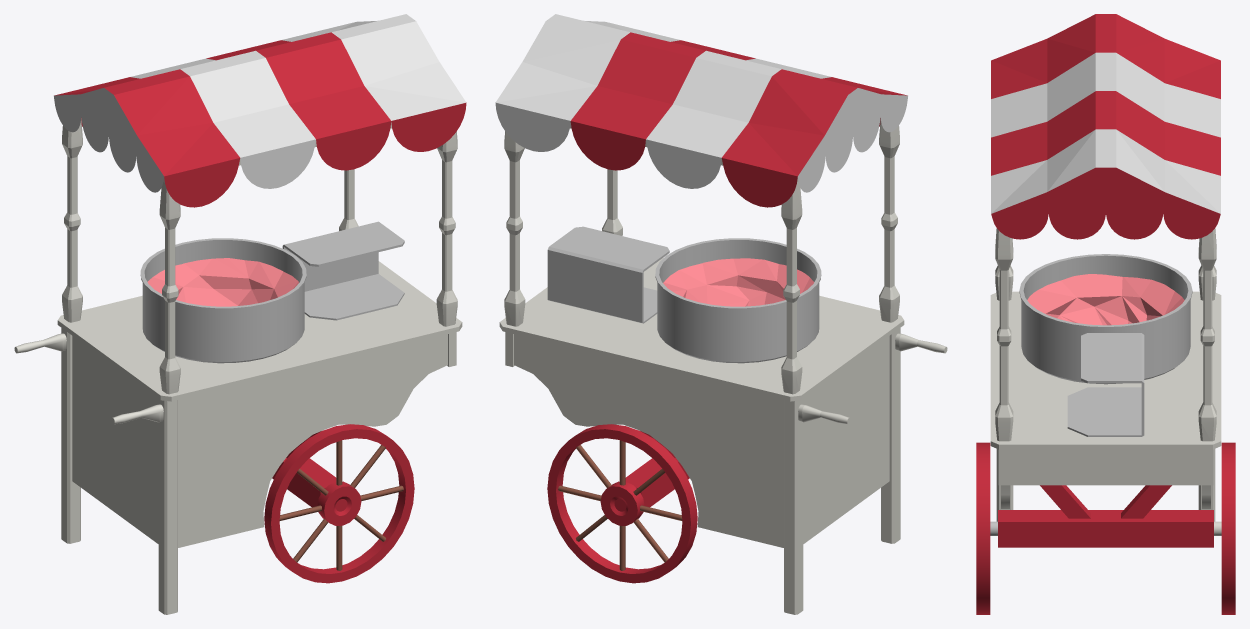
File: Cotton_Candy_Cart.fbx
3 views of the same model, side by side, from view 1: azimuth 30°, elevation 25°; view 2: azimuth 150°, elevation 25°; view 3: azimuth 270°, elevation 25° (orthographic). The views are drawn at different scales.
Parts seen in each view (by area): view 1: Cotton_Candy_Cart, Cotton_Candy_Stand, Cotton_Candy; view 2: Cotton_Candy_Cart, Cotton_Candy_Stand, Cotton_Candy; view 3: Cotton_Candy_Cart, Cotton_Candy_Stand, Cotton_Candy.
Part boxes in pixels (<box>): Cotton_Candy_Cart: <box>14,14,466,614</box>; Cotton_Candy_Stand: <box>282,221,404,320</box>; Cotton_Candy: <box>147,258,298,306</box>; Cotton_Candy_Cart: <box>495,14,947,614</box>; Cotton_Candy_Stand: <box>547,226,669,323</box>; Cotton_Candy: <box>663,258,814,306</box>; Cotton_Candy_Cart: <box>976,14,1235,614</box>; Cotton_Candy_Stand: <box>1067,333,1144,436</box>; Cotton_Candy: <box>1027,274,1184,325</box>.
Bounding box in the file's own units: 1.23 × 1.65 × 0.7652.
